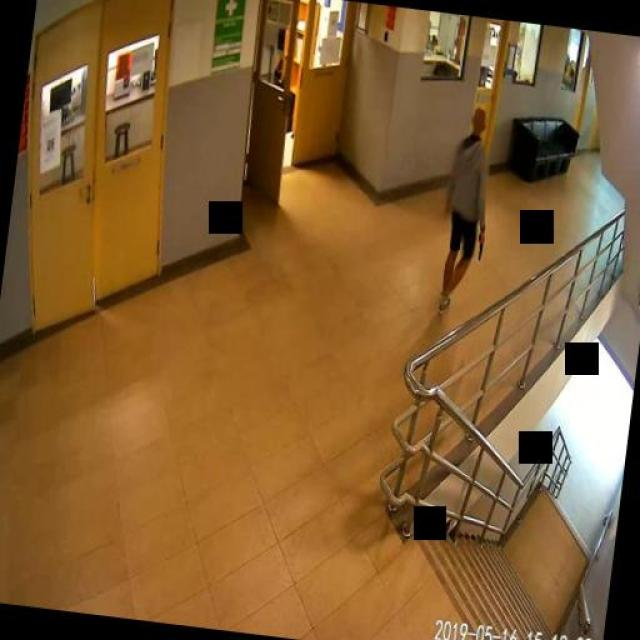gun: (475, 230, 484, 259)
